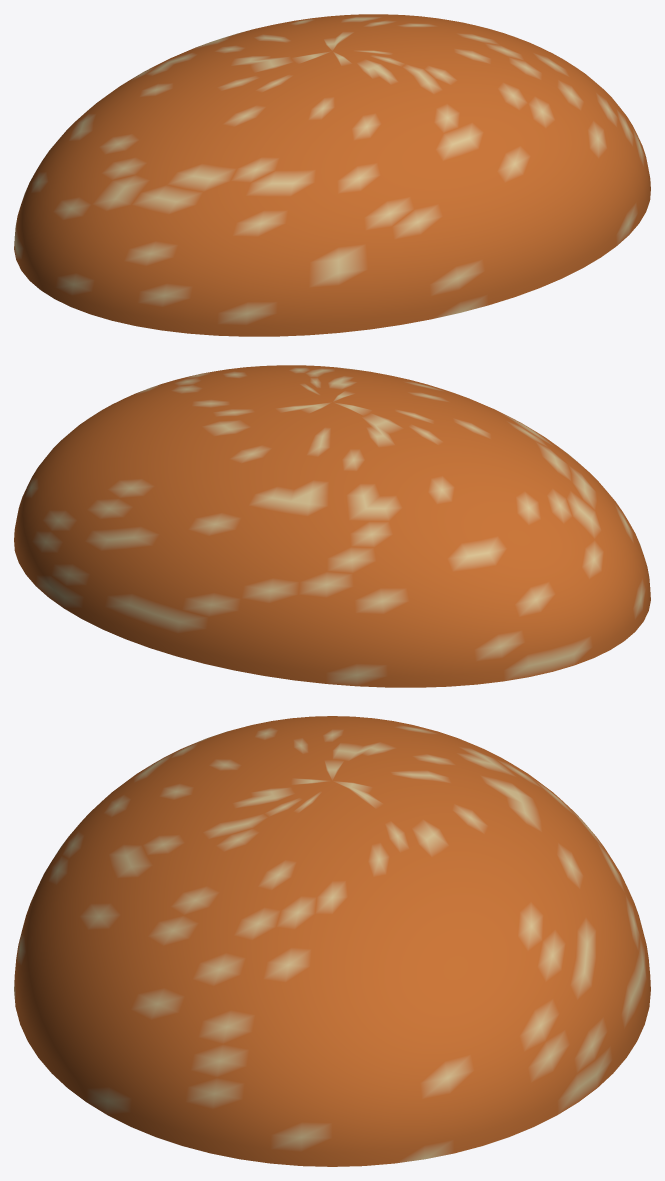
The model's file is sunstone.glb.
3 views of the same model, one above another, from view 1: azimuth 30°, elevation 25°; view 2: azimuth 150°, elevation 25°; view 3: azimuth 270°, elevation 25° (orthographic). The views are drawn at different scales.
Parts seen in each view (by area): view 1: sunstone; view 2: sunstone; view 3: sunstone.
Part boxes in pixels (x1,y1,x2,y2): sunstone: [14, 14, 650, 336]; sunstone: [14, 365, 650, 687]; sunstone: [14, 716, 650, 1166].
Size of the model in its own units: 0.25 by 0.0688 by 0.19.
